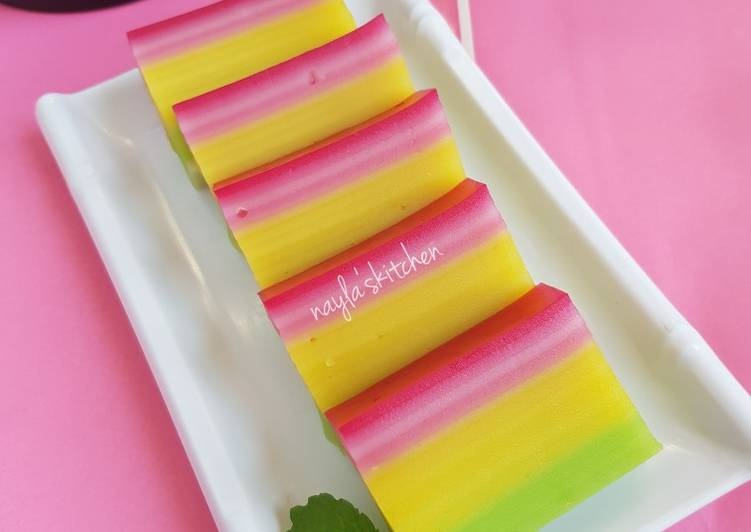kue_lapis_pelangi: (319, 281, 661, 530), (255, 179, 536, 411)
